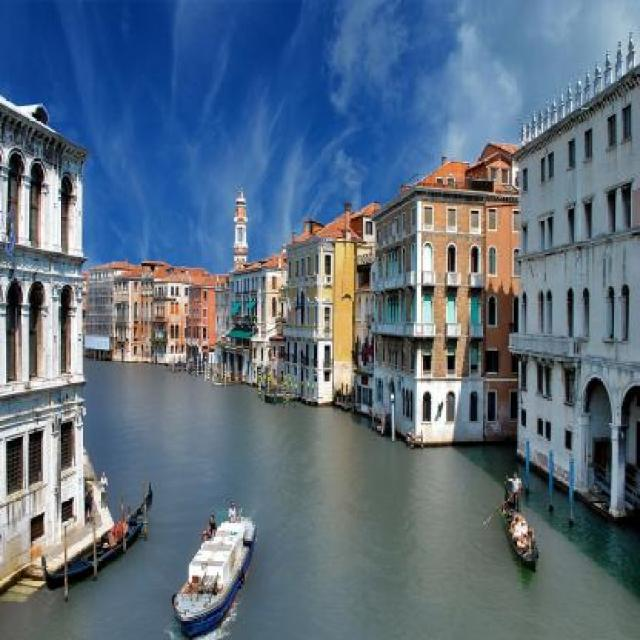ship: (40, 482, 151, 590), (170, 515, 255, 633), (499, 481, 541, 568)
